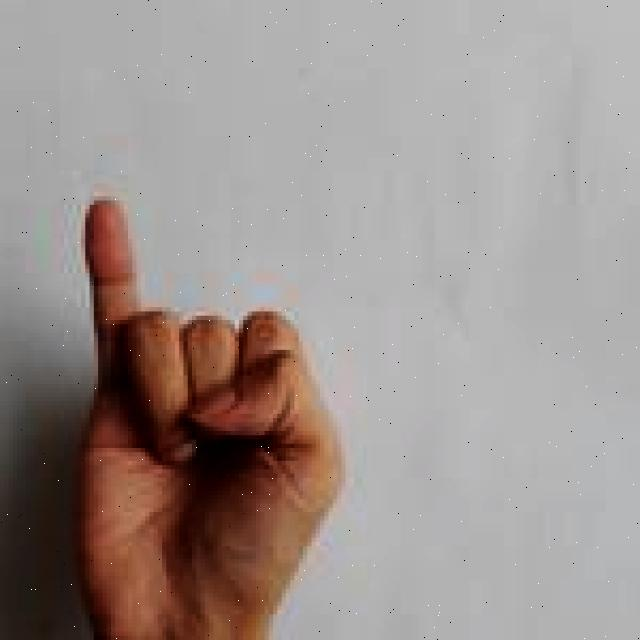I: (61, 193, 351, 640)
